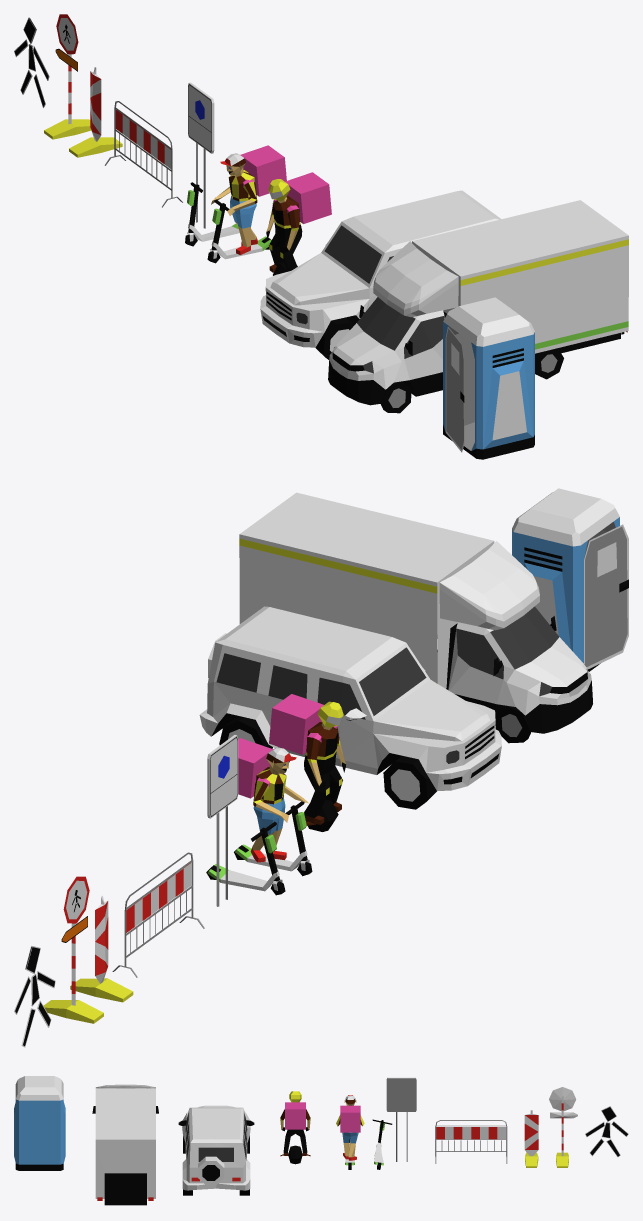
The model's file is prekazky_ulice.fbx.
3 views of the same model, one above another, from view 1: azimuth 30°, elevation 25°; view 2: azimuth 150°, elevation 25°; view 3: azimuth 270°, elevation 25° (orthographic). The views are drawn at different scales.
Parts seen in each view (by area): view 1: iveco dodávka zásobování, mercedes jeep, toi toika, delivery boy koloběžka, delivery boy uni, cedule zábradlí, cedule pěší zóna, cedule objížďka, dopravní kužel, panák z cedule, delivery boy koloběžka.001; view 2: iveco dodávka zásobování, mercedes jeep, toi toika, delivery boy uni, delivery boy koloběžka, cedule zábradlí, cedule pěší zóna, cedule objížďka, dopravní kužel, delivery boy koloběžka.001, panák z cedule; view 3: iveco dodávka zásobování, mercedes jeep, toi toika, cedule zábradlí, delivery boy uni, cedule pěší zóna, delivery boy koloběžka, cedule objížďka, dopravní kužel, panák z cedule, delivery boy koloběžka.001.
Boxes of the visible parts, x1,y1,x2,y2 form: iveco dodávka zásobování: [328, 200, 628, 413]; mercedes jeep: [260, 190, 501, 359]; toi toika: [443, 297, 534, 459]; delivery boy koloběžka: [207, 145, 286, 263]; delivery boy uni: [266, 172, 331, 275]; cedule zábradlí: [104, 101, 182, 207]; cedule pěší zóna: [188, 82, 214, 228]; cedule objížďka: [44, 14, 91, 139]; dopravní kužel: [69, 67, 122, 157]; panák z cedule: [14, 17, 49, 107]; delivery boy koloběžka.001: [185, 182, 239, 246]; iveco dodávka zásobování: [239, 492, 592, 743]; mercedes jeep: [199, 606, 501, 809]; toi toika: [512, 488, 628, 671]; delivery boy uni: [269, 694, 346, 831]; delivery boy koloběžka: [234, 738, 312, 876]; cedule zábradlí: [112, 852, 204, 977]; cedule pěší zóna: [207, 735, 238, 906]; cedule objížďka: [43, 876, 103, 1023]; dopravní kužel: [70, 895, 133, 1002]; delivery boy koloběžka.001: [206, 821, 285, 895]; panák z cedule: [14, 946, 55, 1047]; iveco dodávka zásobování: [92, 1084, 158, 1205]; mercedes jeep: [178, 1105, 254, 1195]; toi toika: [14, 1076, 65, 1170]; cedule zábradlí: [435, 1120, 507, 1163]; delivery boy uni: [280, 1091, 310, 1164]; cedule pěší zóna: [386, 1077, 416, 1161]; delivery boy koloběžka: [336, 1095, 364, 1169]; cedule objížďka: [549, 1087, 577, 1167]; dopravní kužel: [524, 1110, 538, 1167]; panák z cedule: [585, 1106, 628, 1156]; delivery boy koloběžka.001: [372, 1119, 392, 1169].
Bounding box in the file's own units: 557 × 270 × 1765.
